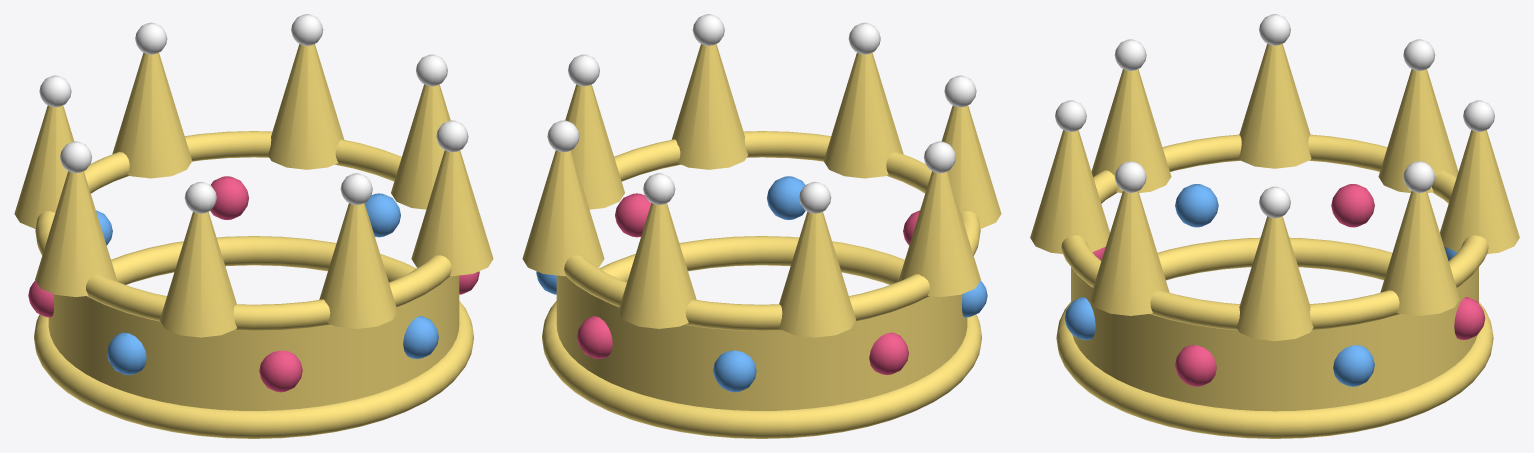
File: crown.glb
The picture shows the model from 3 angles, left to right: view 1: azimuth 30°, elevation 25°; view 2: azimuth 150°, elevation 25°; view 3: azimuth 270°, elevation 25°; orthographic projection.
Size of the model in its own units: 16.8 by 9.45 by 16.8.
